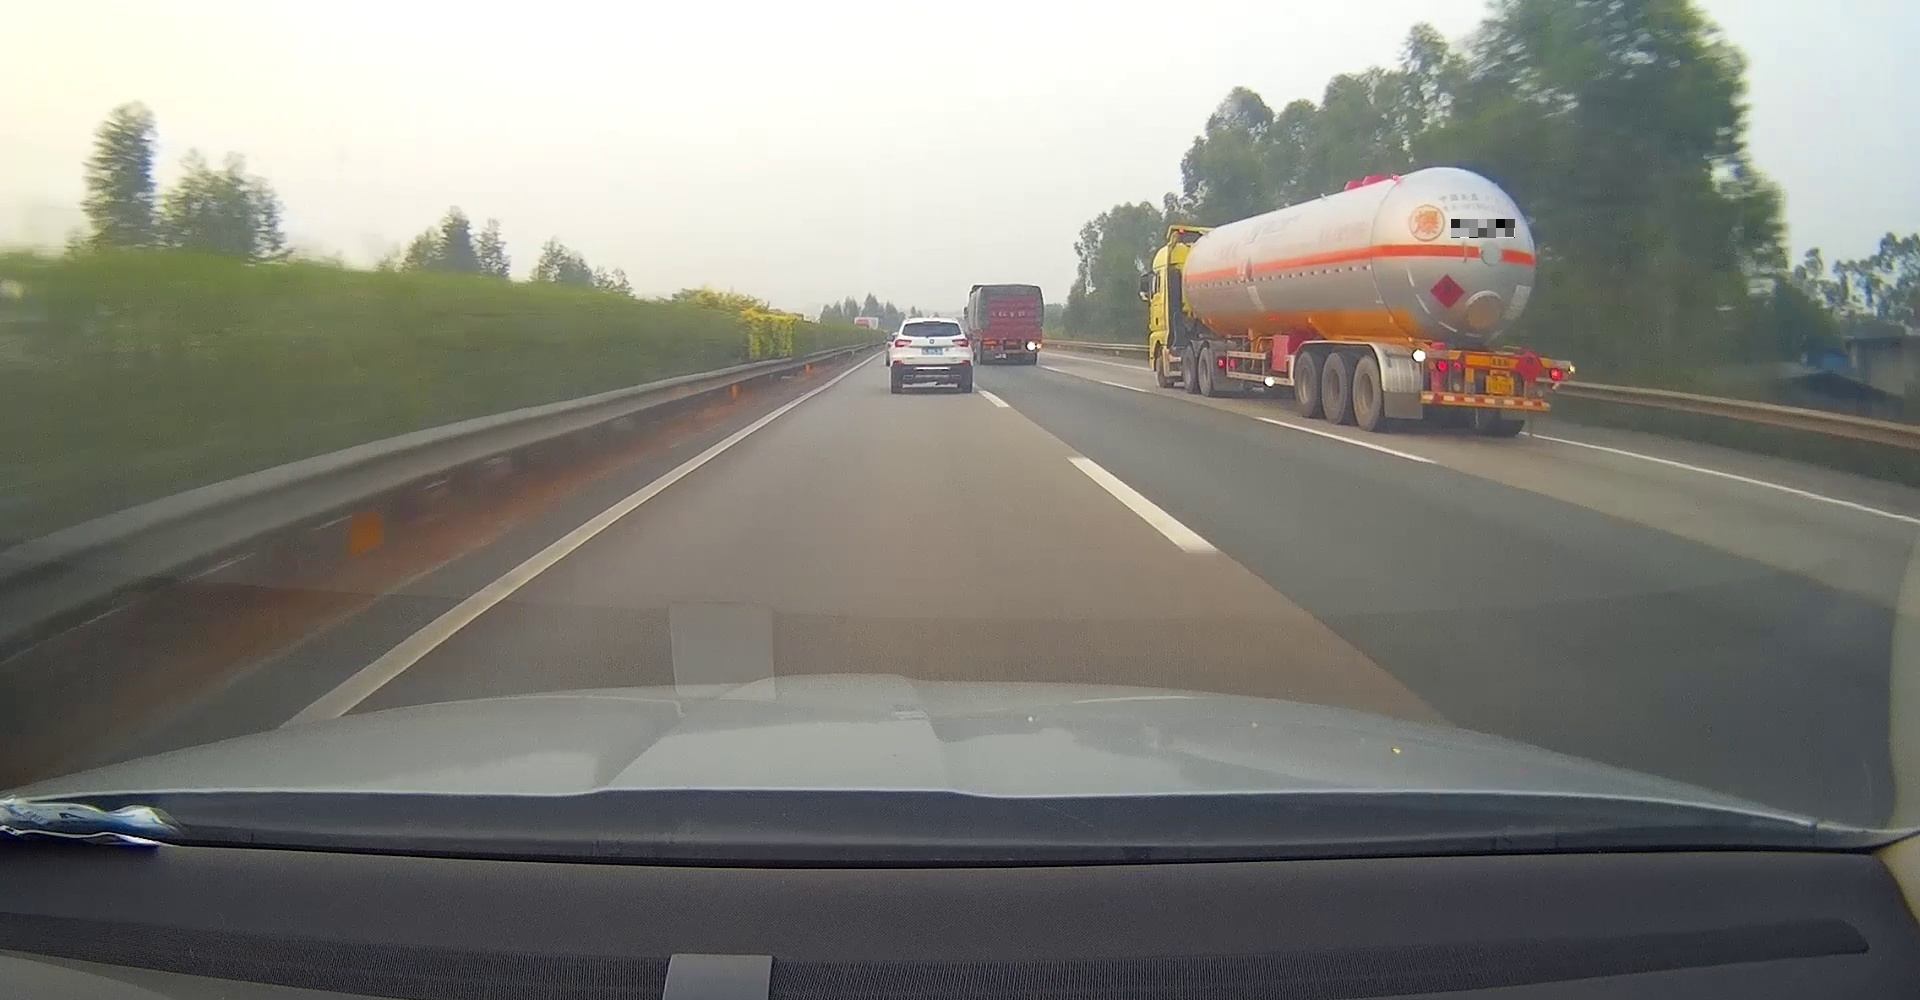L_light: (1425, 358, 1462, 372), (895, 339, 912, 348), (983, 345, 996, 349)
R_light: (1540, 369, 1570, 381), (951, 338, 969, 346), (1027, 344, 1040, 349)
T_light: (1488, 355, 1509, 368), (923, 321, 940, 325), (1004, 291, 1015, 294)
day-no: (1410, 348, 1575, 434), (890, 317, 973, 393)
day-right: (978, 286, 1044, 364)
plate_1: (1451, 220, 1515, 239)
